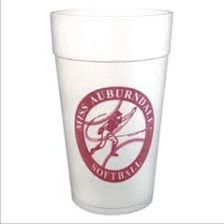paper_cup: (44, 3, 177, 219)
